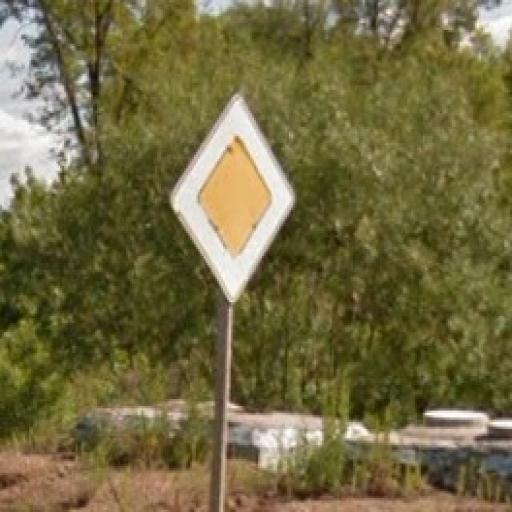traffic_sign: (170, 90, 300, 307)
